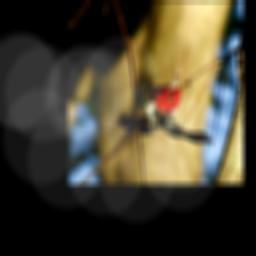Woodpecker: (116, 61, 217, 151)
